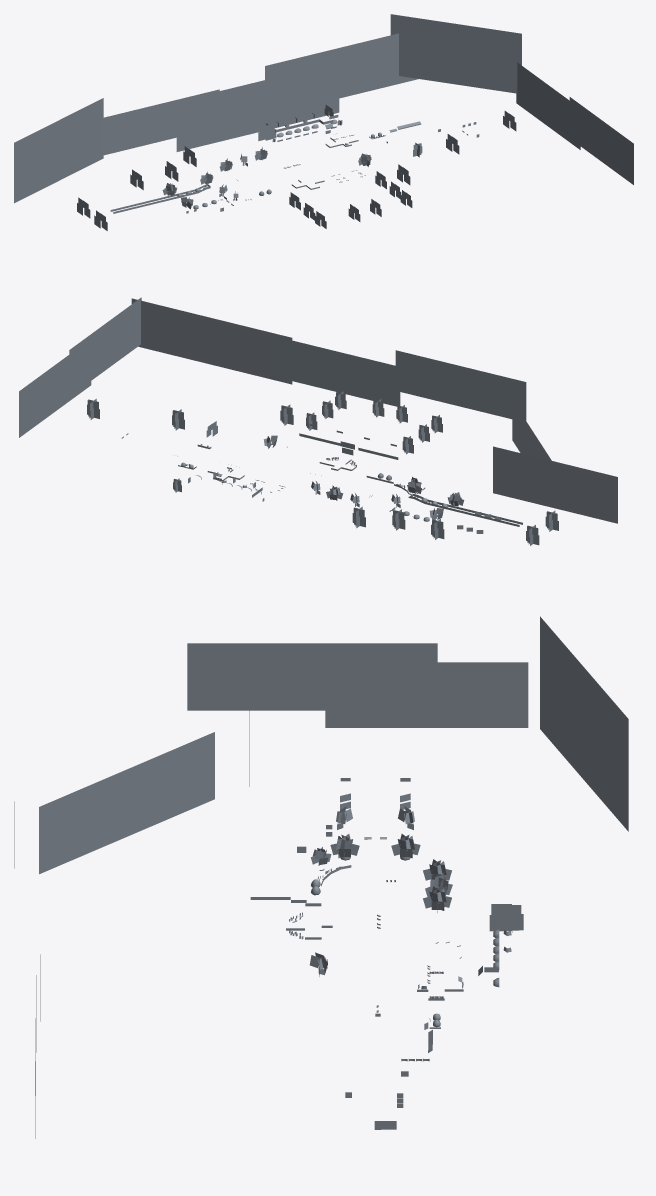
The model's file is gltf__Models__map__Village__cityHall__cityHall_mergedAlpha_oneMesh.glb.
3 views of the same model, one above another, from view 1: azimuth 30°, elevation 25°; view 2: azimuth 150°, elevation 25°; view 3: azimuth 270°, elevation 25° (orthographic). The views are drawn at different scales.
Visible parts, largest first — view 1: cityHall_mergedAlpha_oneMesh; view 2: cityHall_mergedAlpha_oneMesh; view 3: cityHall_mergedAlpha_oneMesh.
Part boxes in pixels (bbox=[...]): cityHall_mergedAlpha_oneMesh: bbox=[14, 14, 633, 230]; cityHall_mergedAlpha_oneMesh: bbox=[19, 297, 617, 545]; cityHall_mergedAlpha_oneMesh: bbox=[14, 616, 628, 1138].
Size of the model in its own units: 202 by 33.19 by 119.
1 material, 1 textured.
